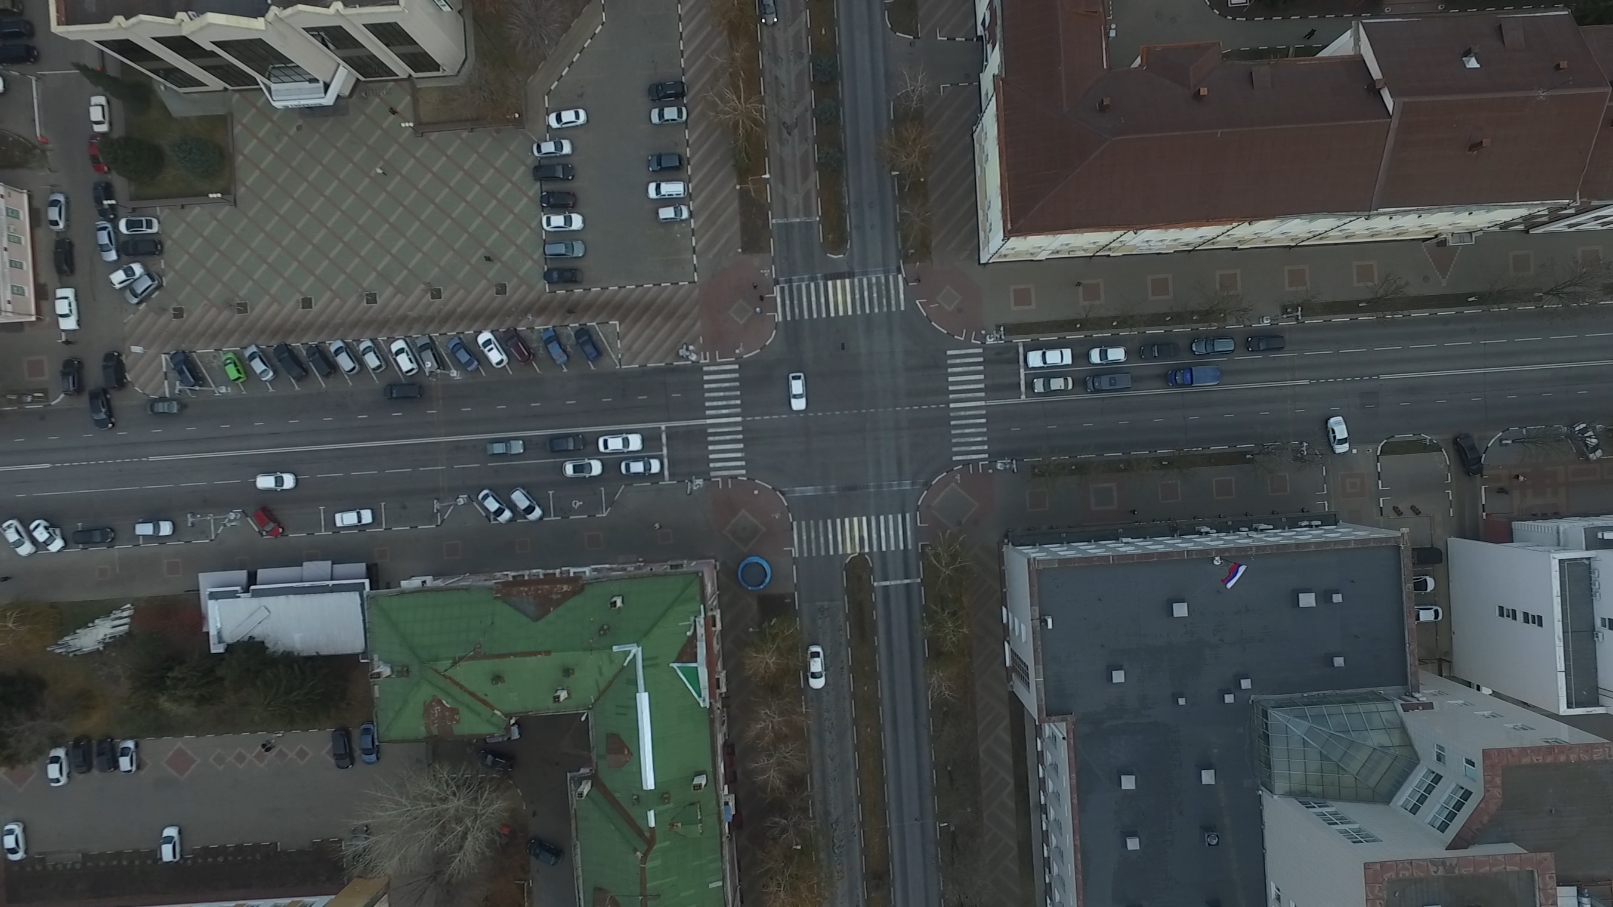car: (169, 350, 210, 392), (1452, 434, 1489, 476), (479, 486, 520, 523), (277, 343, 312, 385), (1, 516, 35, 559), (1165, 362, 1223, 388), (244, 342, 280, 382), (53, 288, 84, 334), (328, 340, 363, 380), (125, 274, 167, 307), (1575, 421, 1609, 463), (502, 328, 537, 365), (30, 516, 65, 554), (449, 337, 483, 374), (44, 745, 72, 791), (477, 332, 511, 370), (525, 838, 564, 870), (418, 334, 446, 378), (477, 748, 517, 779), (347, 824, 374, 868), (1, 820, 31, 860), (66, 733, 96, 773), (512, 487, 546, 522), (119, 231, 163, 258), (89, 386, 114, 432), (101, 346, 127, 389), (357, 340, 388, 377), (540, 328, 569, 365), (89, 133, 114, 176), (309, 344, 340, 380), (44, 190, 71, 231), (90, 181, 116, 221), (1326, 416, 1354, 455), (158, 825, 184, 867), (93, 221, 119, 264), (109, 260, 145, 289), (251, 507, 282, 540), (332, 729, 356, 772), (360, 722, 383, 765), (395, 339, 422, 377), (88, 96, 114, 134), (573, 327, 602, 361), (114, 214, 158, 236), (332, 506, 374, 529), (220, 349, 246, 386), (1024, 348, 1075, 367), (60, 359, 83, 400), (540, 212, 584, 233), (548, 432, 590, 454), (561, 458, 605, 480), (650, 104, 694, 125), (69, 527, 116, 546), (384, 381, 427, 402), (542, 241, 586, 261), (530, 164, 576, 183), (597, 434, 644, 453), (1083, 374, 1132, 392), (1191, 336, 1234, 355), (808, 646, 828, 689), (649, 80, 688, 102), (99, 735, 122, 772), (648, 181, 690, 200), (537, 140, 579, 159), (646, 152, 684, 174), (1, 44, 39, 66), (1139, 342, 1180, 362), (787, 371, 806, 412), (548, 109, 587, 130), (619, 458, 662, 477), (151, 396, 191, 416), (654, 204, 692, 224), (542, 267, 585, 285), (1088, 346, 1131, 363), (540, 190, 579, 209), (54, 240, 74, 278), (1032, 377, 1076, 393), (119, 738, 138, 773), (485, 440, 527, 456), (1411, 546, 1442, 567), (1247, 337, 1290, 352), (256, 473, 295, 489), (131, 521, 174, 535), (1415, 606, 1444, 623), (758, 1, 777, 25), (1412, 577, 1434, 592)
